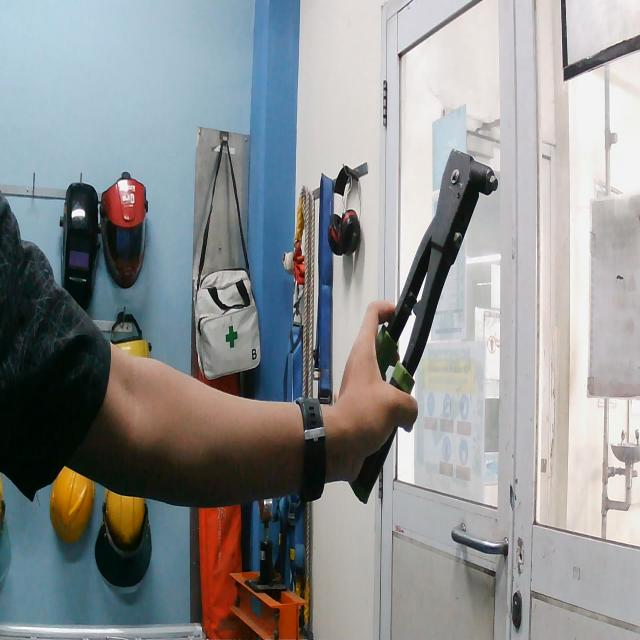tang_rivet: (332, 131, 506, 513)
